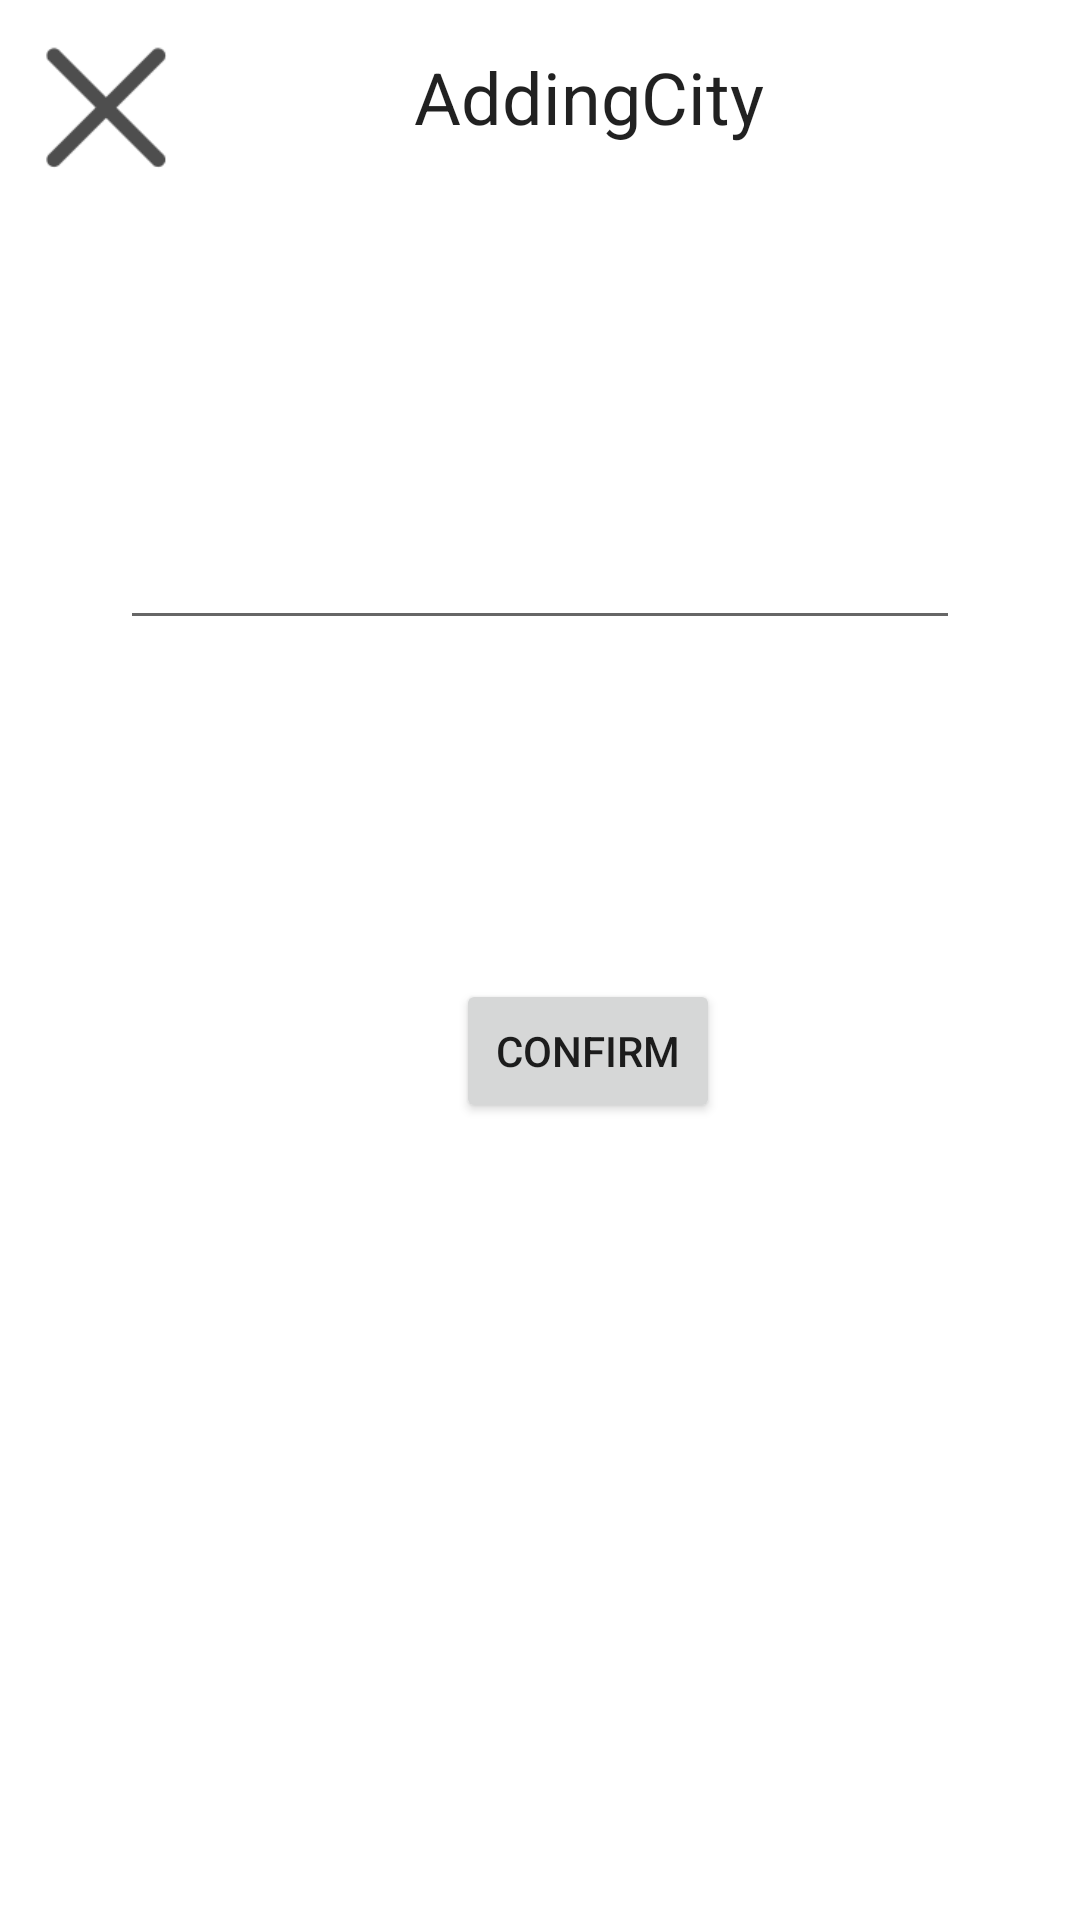

Where icons sit on this 1080 x 1920 app screen, as [left=x1, top=y1, right=x2, bottom=y2]:
close: [left=46, top=47, right=166, bottom=167]
